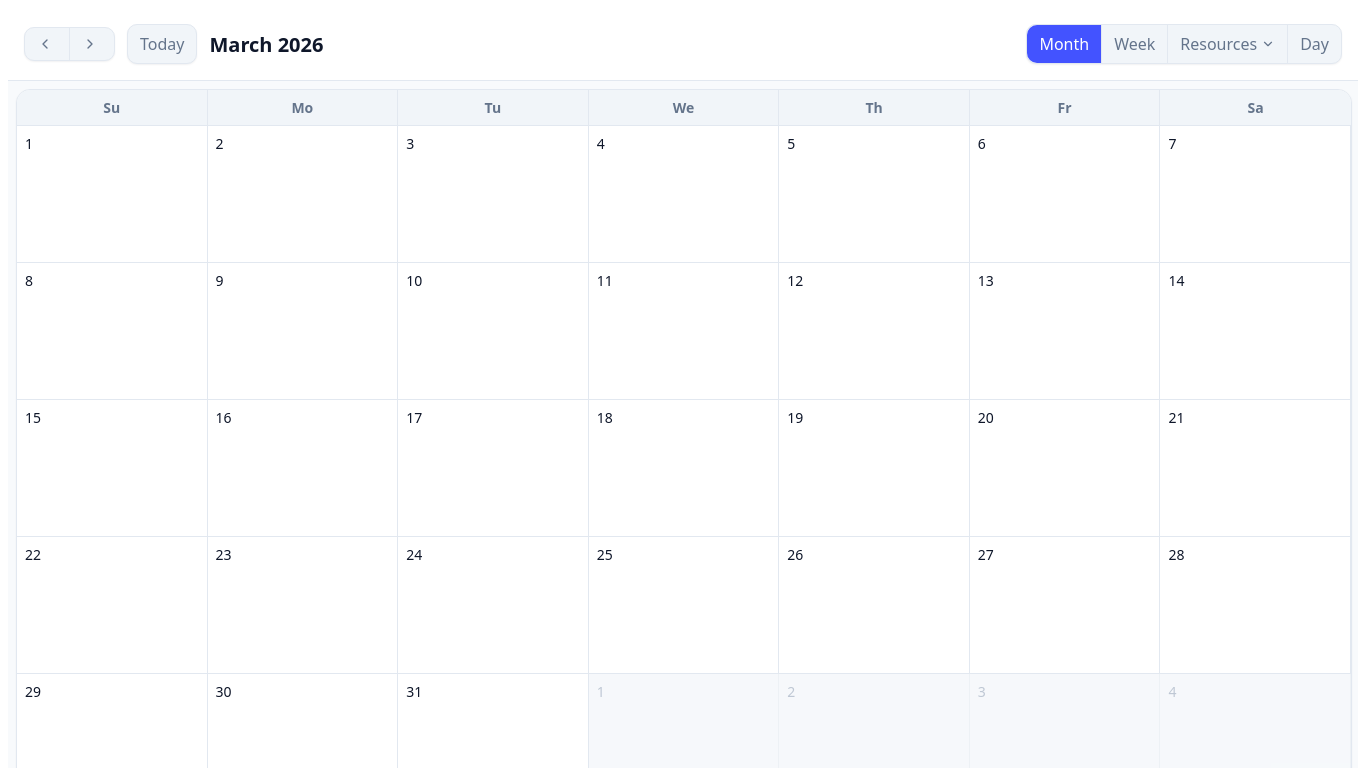
Test: view groups (headerViews: [{ label, views }]) › Escape closes the menu
Click the button "Resources" at (1228, 44), box [1168,25,1287,63]
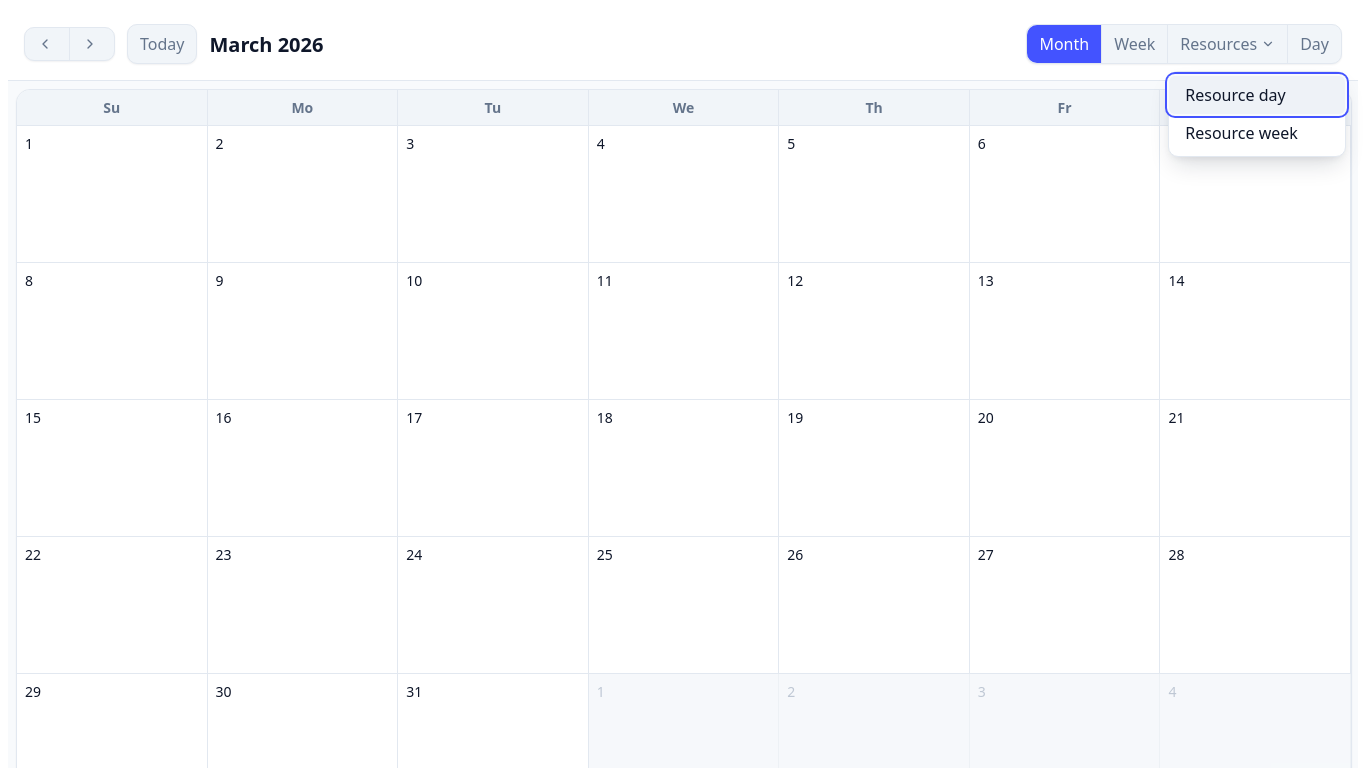
Press Escape in the menu, box [1168,71,1346,157]
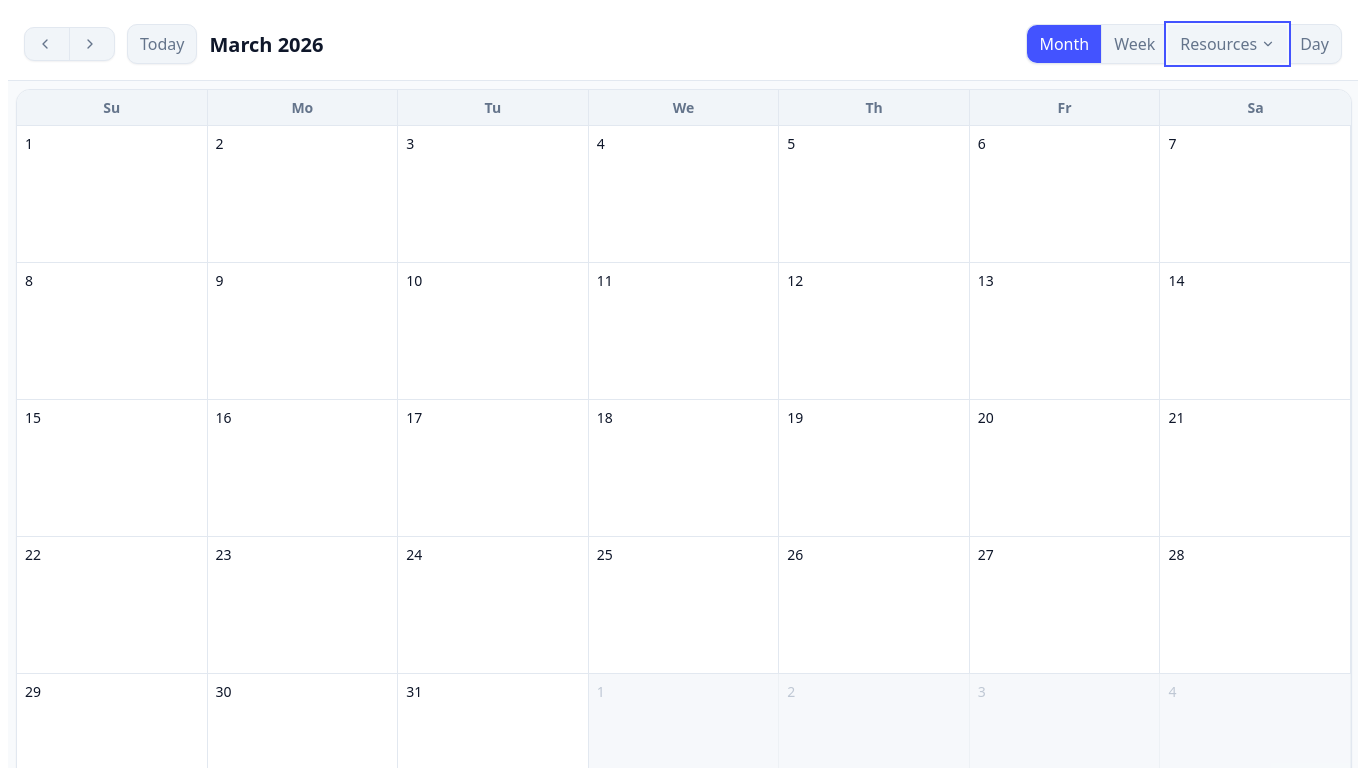
Result: the menu is gone
